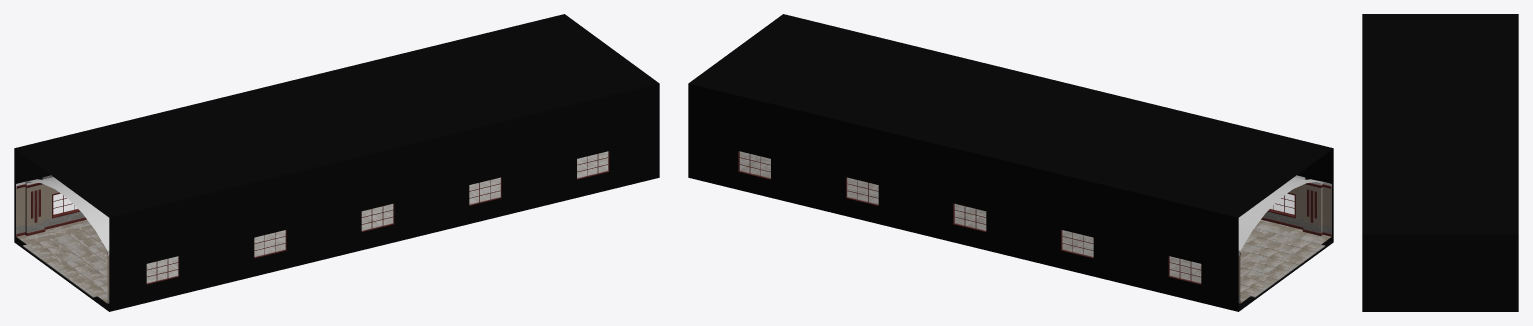
The model's file is gallery_museum_showroom_banquet_hall.glb.
The picture shows the model from 3 angles, left to right: view 1: azimuth 30°, elevation 25°; view 2: azimuth 150°, elevation 25°; view 3: azimuth 270°, elevation 25°; orthographic projection. The views are drawn at different scales.
Visible parts, largest first — view 1: Material2 (×7); view 2: Material2 (×7); view 3: Material2.
Part boxes in pixels (box(x1,y1,x2,y2)): Material2 (×7): box(14, 14, 659, 311); Material2 (×7): box(688, 14, 1333, 311); Material2: box(1362, 14, 1518, 311).
Size of the model in its own units: 1451 by 236 by 430.
9 materials, 7 textured.
